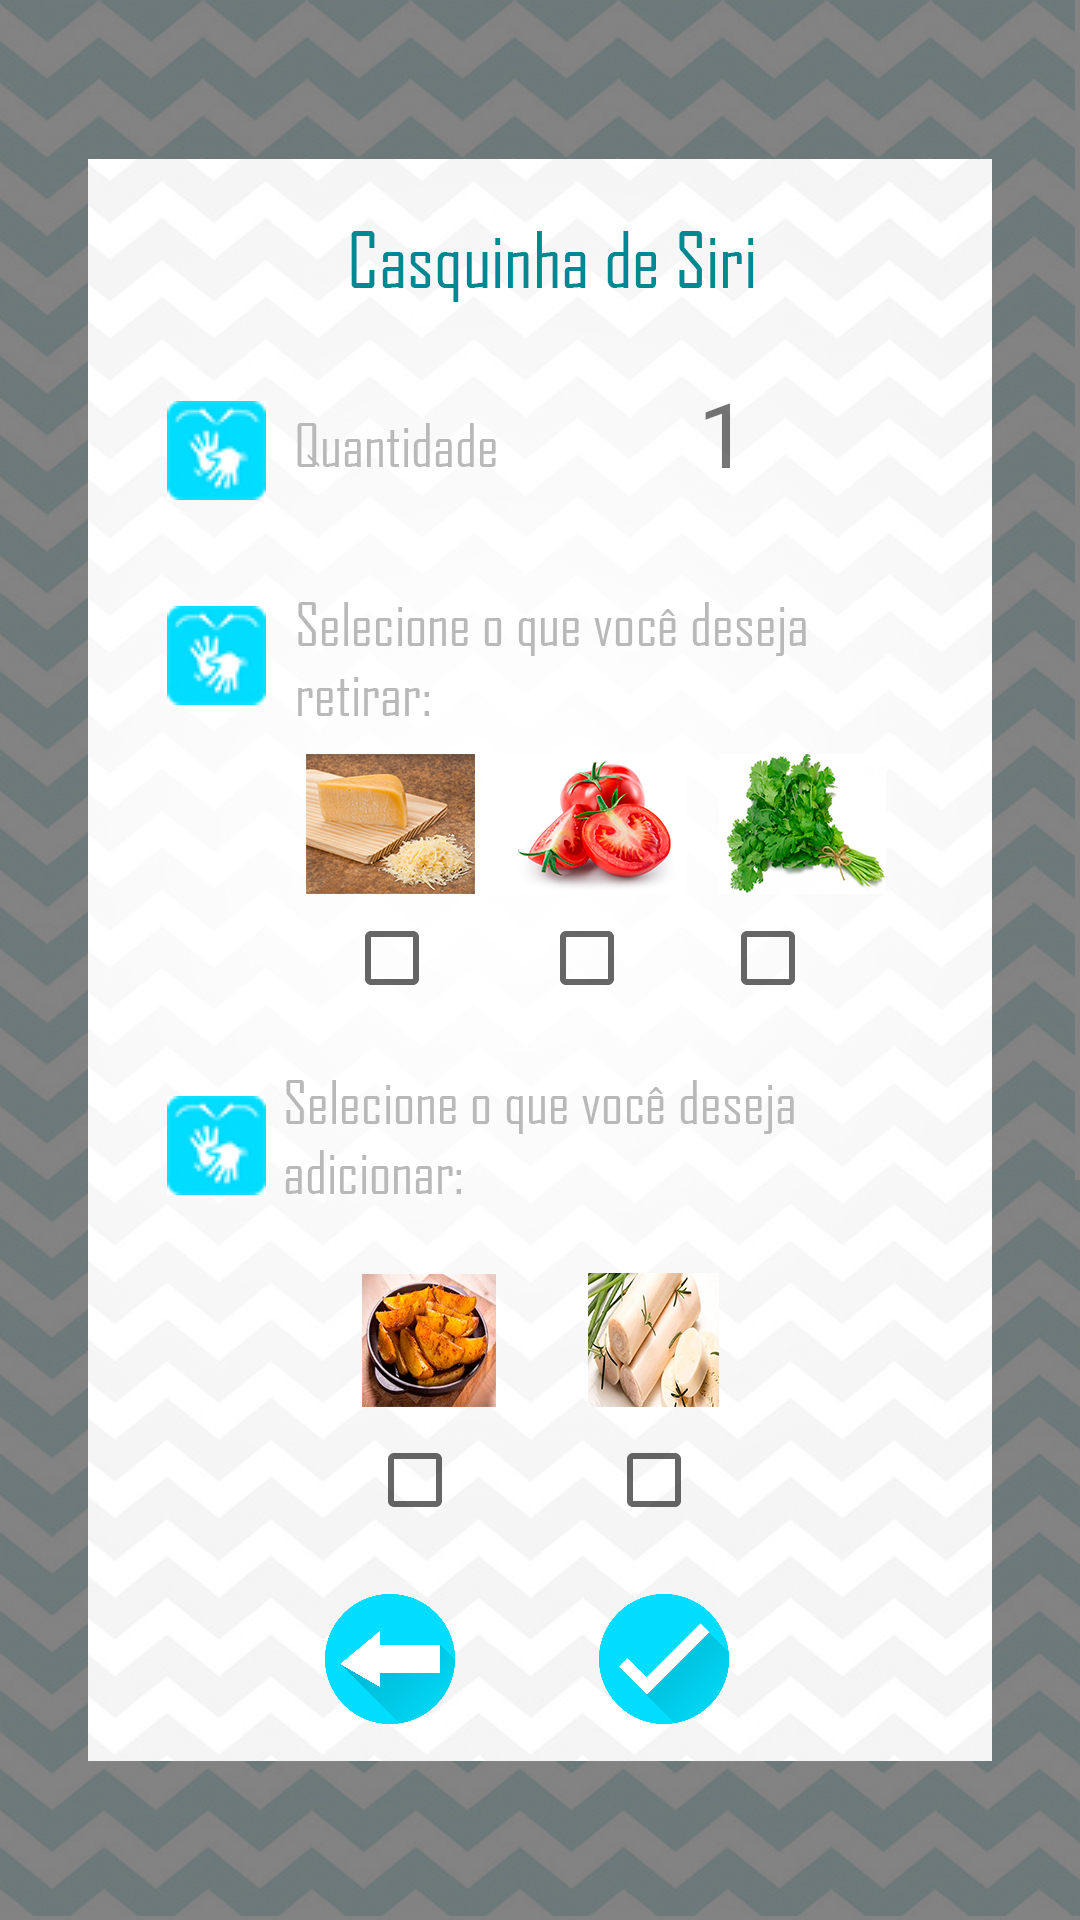

Icon click points for this 1080*1920 phone screenshot, format point (x, y):
checkcircle: point (664, 1659)
seta: point (390, 1659)
